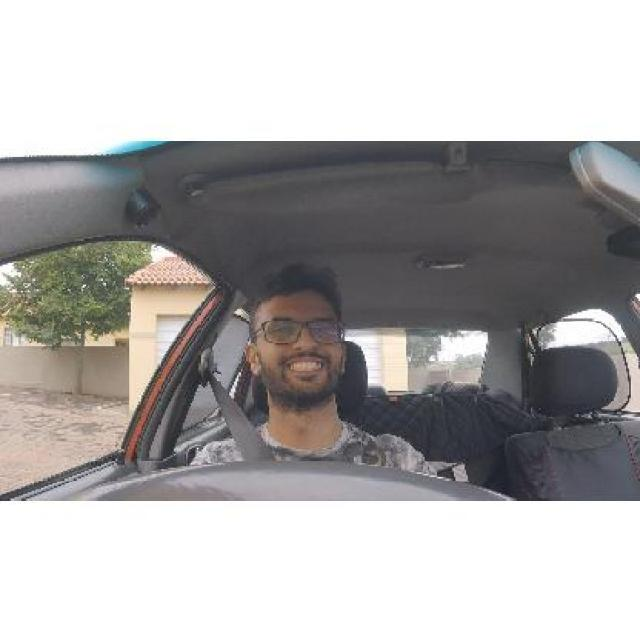person: (243, 261, 357, 417)
